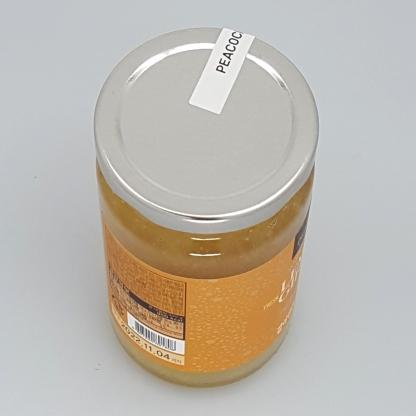--------------400G: (93, 27, 319, 389)
